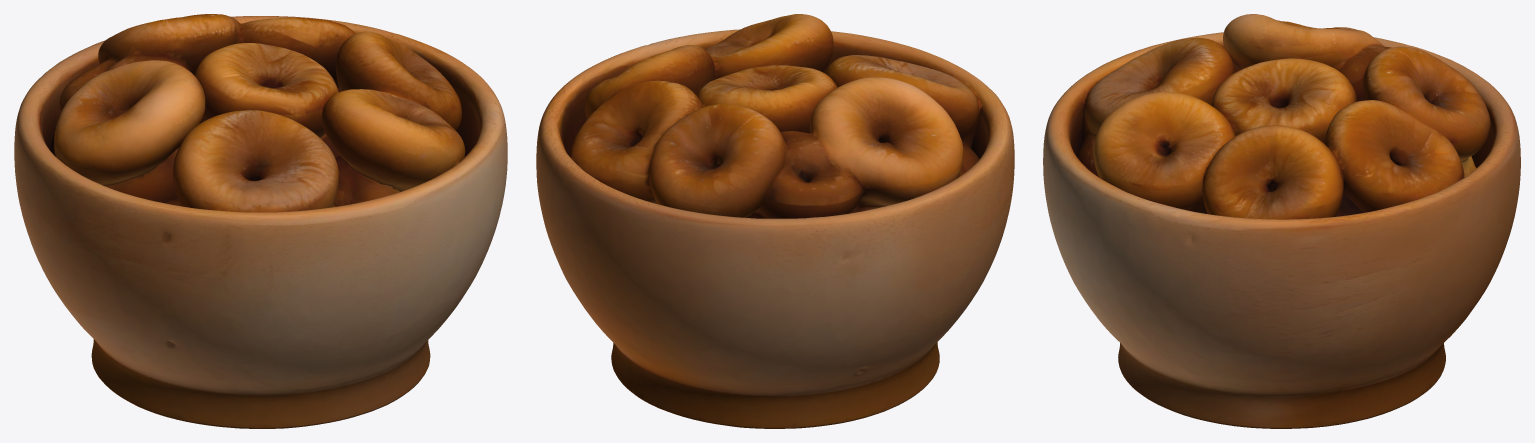
The model's file is Fig.glb.
3 views of the same model, side by side, from view 1: azimuth 30°, elevation 25°; view 2: azimuth 150°, elevation 25°; view 3: azimuth 270°, elevation 25° (orthographic). The views are drawn at different scales.
Parts seen in each view (by area): view 1: vrin_node_b20136fa-01ea-4118-9b49-dc042c5a0939; view 2: vrin_node_b20136fa-01ea-4118-9b49-dc042c5a0939; view 3: vrin_node_b20136fa-01ea-4118-9b49-dc042c5a0939.
Part boxes in pixels (bbox=[...]): vrin_node_b20136fa-01ea-4118-9b49-dc042c5a0939: bbox=[14, 14, 507, 428]; vrin_node_b20136fa-01ea-4118-9b49-dc042c5a0939: bbox=[536, 14, 1014, 428]; vrin_node_b20136fa-01ea-4118-9b49-dc042c5a0939: bbox=[1043, 14, 1520, 428].
Size of the model in its own units: 0.9992 by 0.6847 by 1.
Materials: 1 (1 with a texture image).
